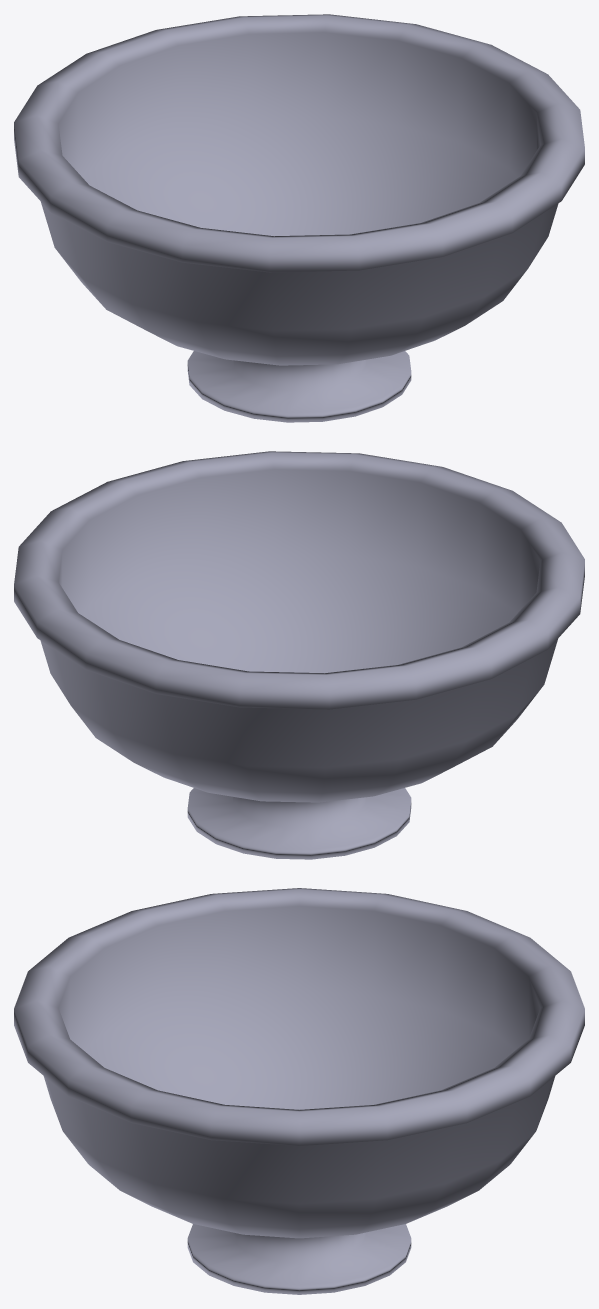
File: Bowal.fbx
The picture shows the model from 3 angles, top to bottom: view 1: azimuth 30°, elevation 25°; view 2: azimuth 150°, elevation 25°; view 3: azimuth 270°, elevation 25°; orthographic projection.
Visible parts, largest first — view 1: Bowal; view 2: Bowal; view 3: Bowal.
Boxes of the visible parts, x1,y1,x2,y2 form: Bowal: (14,14,584,422); Bowal: (14,451,584,859); Bowal: (14,888,584,1294).
Size of the model in its own units: 21.38 by 10.2 by 21.38.
